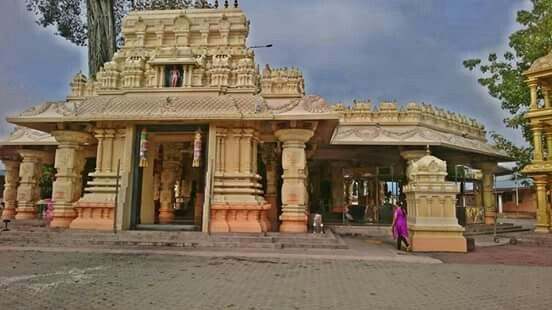Hindu Temple: (7, 2, 320, 225)
